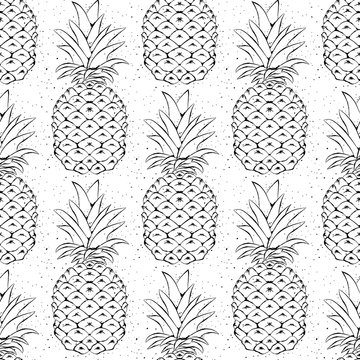Pineapple: (140, 90, 220, 263), (53, 1, 131, 173), (233, 180, 308, 355), (53, 179, 128, 353), (234, 3, 308, 174)
